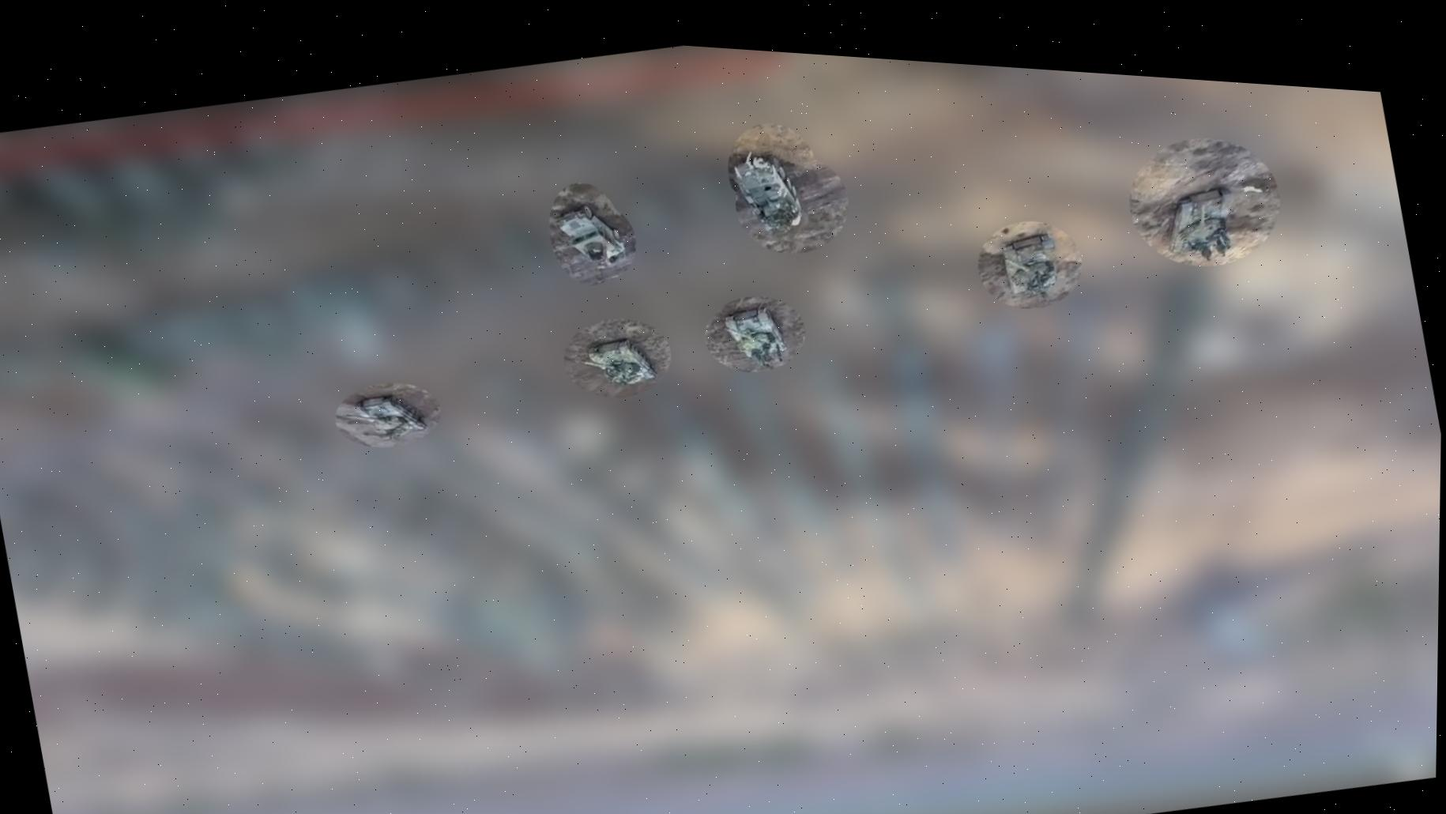armored_car: (728, 144, 807, 238), (555, 197, 627, 269)
tank: (1154, 173, 1249, 266), (340, 382, 431, 447), (574, 328, 662, 394), (996, 226, 1067, 305), (719, 300, 792, 376)
